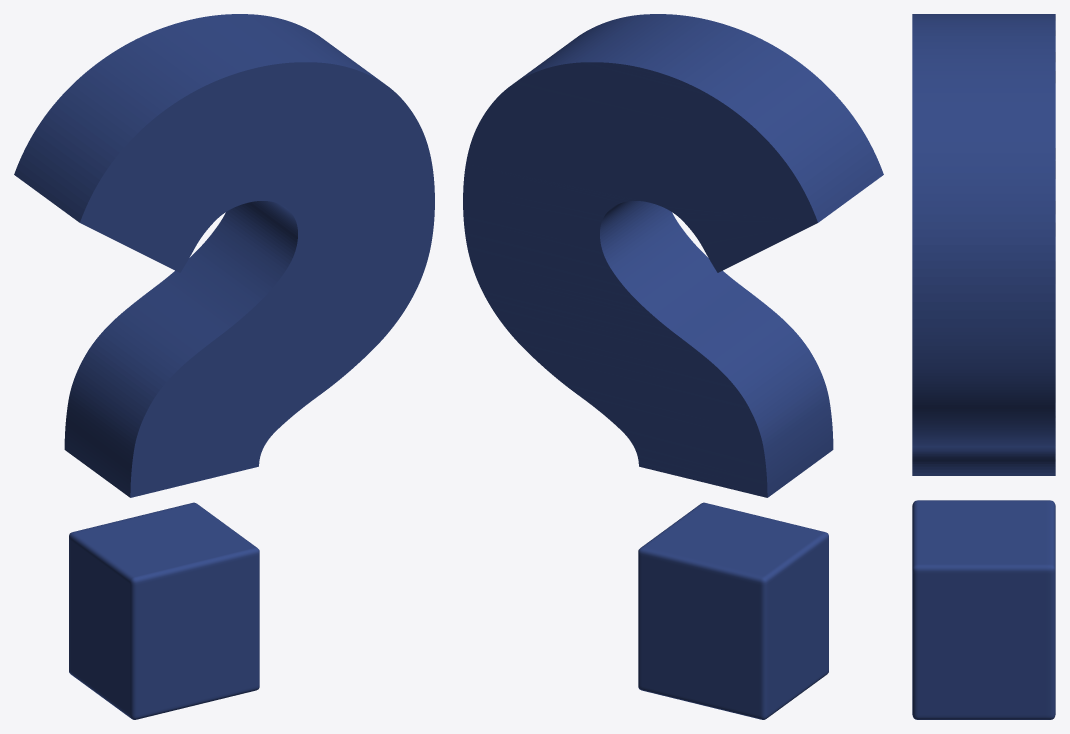
3 renders of one model, left to right at view 1: azimuth 30°, elevation 25°; view 2: azimuth 150°, elevation 25°; view 3: azimuth 270°, elevation 25°, orthographic. The views are drawn at different scales.
Visible parts, largest first — view 1: Down Part; view 2: Down Part; view 3: Down Part.
Boxes of the visible parts, x1=… form: Down Part: x1=14, y1=14, x2=434, y2=719; Down Part: x1=463, y1=14, x2=883, y2=719; Down Part: x1=912, y1=14, x2=1055, y2=719.
Size of the model in its own units: 0.3115 by 0.5233 by 0.1.
